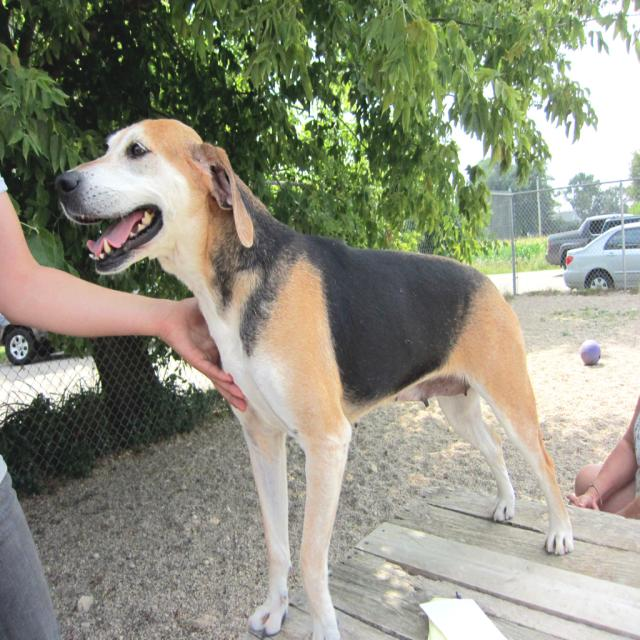car: (544, 219, 639, 274)
